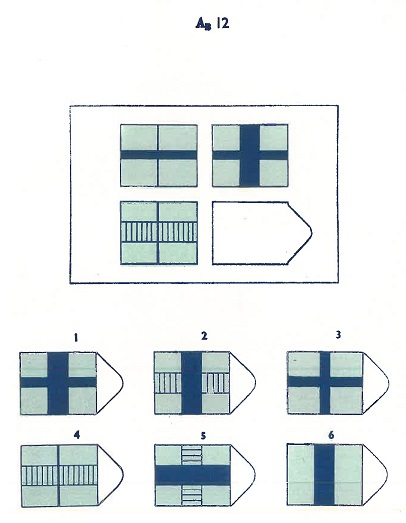Array 1: (15, 329, 126, 418)
Array 2: (149, 328, 258, 420)
Array 3: (282, 327, 395, 418)
Array 4: (16, 425, 127, 510)
Array 5: (149, 426, 261, 510)
Array 6: (282, 425, 392, 510)
Matrix 1: (114, 119, 201, 191)
Matrix 2: (207, 120, 293, 192)
Matrix 3: (115, 196, 204, 268)
Matrix Unknown: (208, 197, 315, 268)
